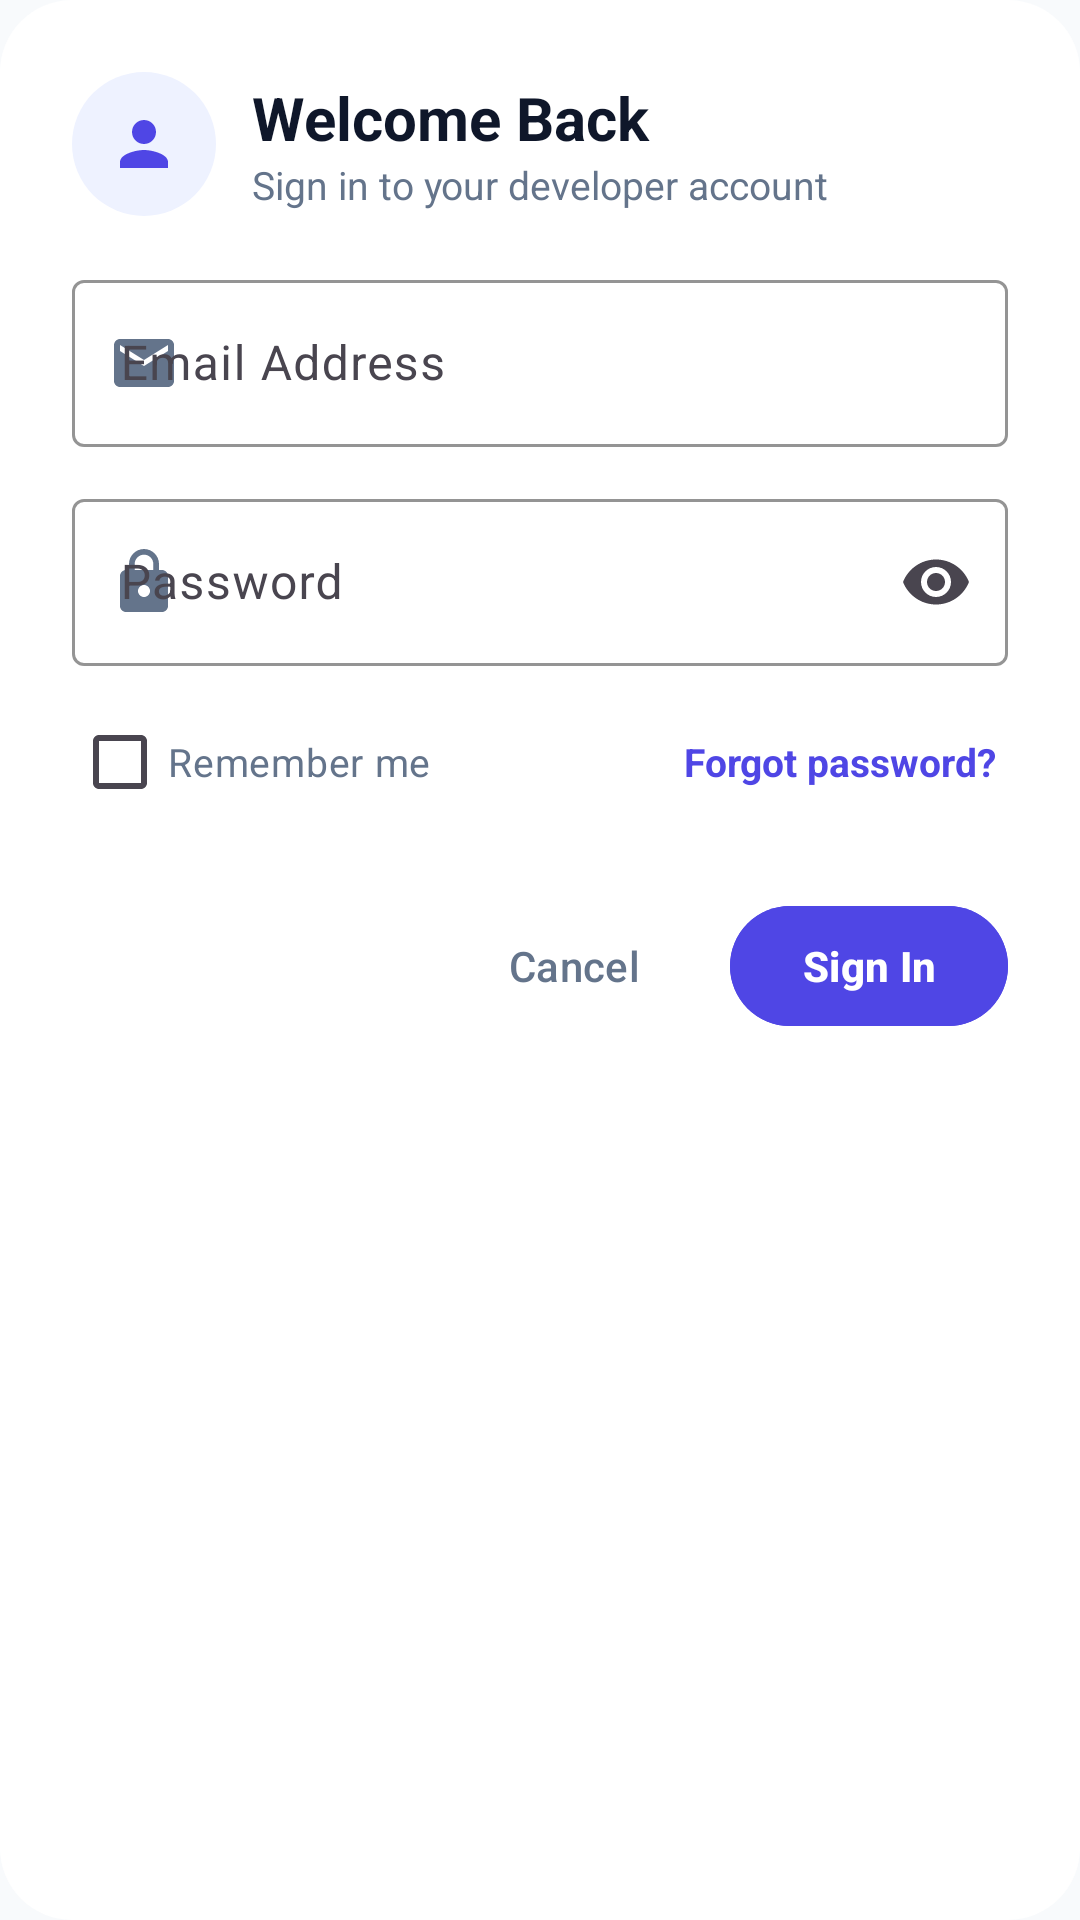

Point at icon controls on the screen. Image size 1080px×1920px, points as [x,y].
person: [144,144]
